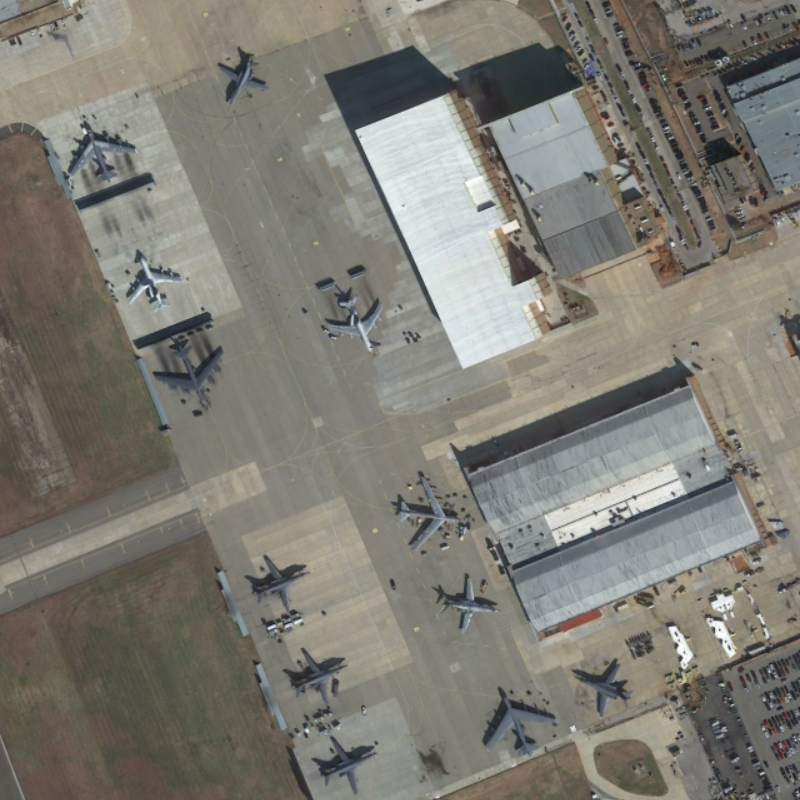A10: (282, 644, 350, 711), (436, 572, 504, 634), (316, 733, 379, 798), (250, 554, 309, 616), (572, 662, 635, 718), (217, 55, 270, 107)
A7: (323, 293, 385, 354), (126, 251, 185, 314)
A8: (396, 471, 463, 553), (481, 690, 559, 759), (151, 342, 226, 413), (66, 120, 138, 185)
